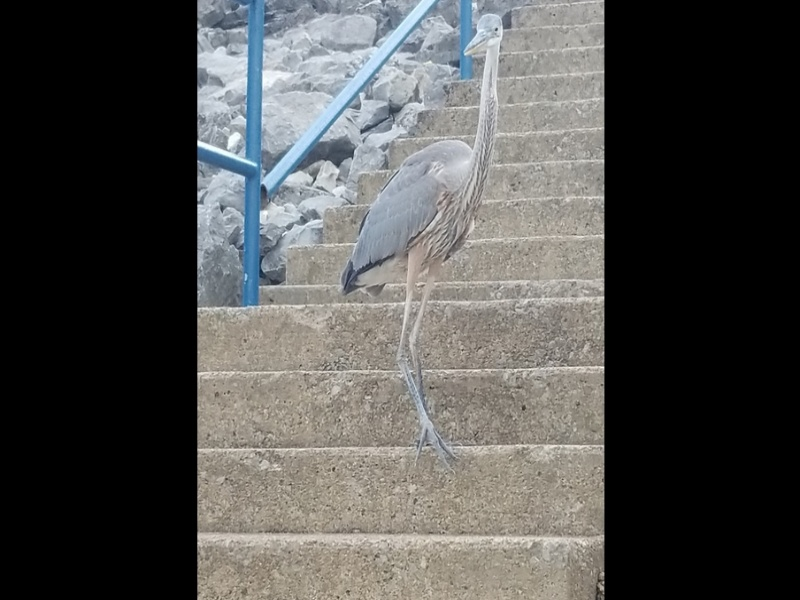heron: (336, 13, 501, 481)
